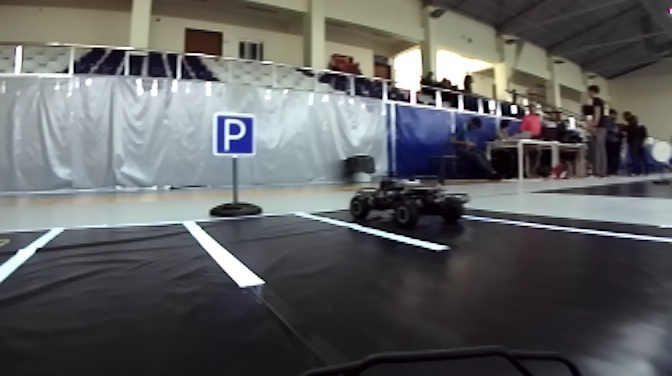park: (213, 111, 259, 159)
